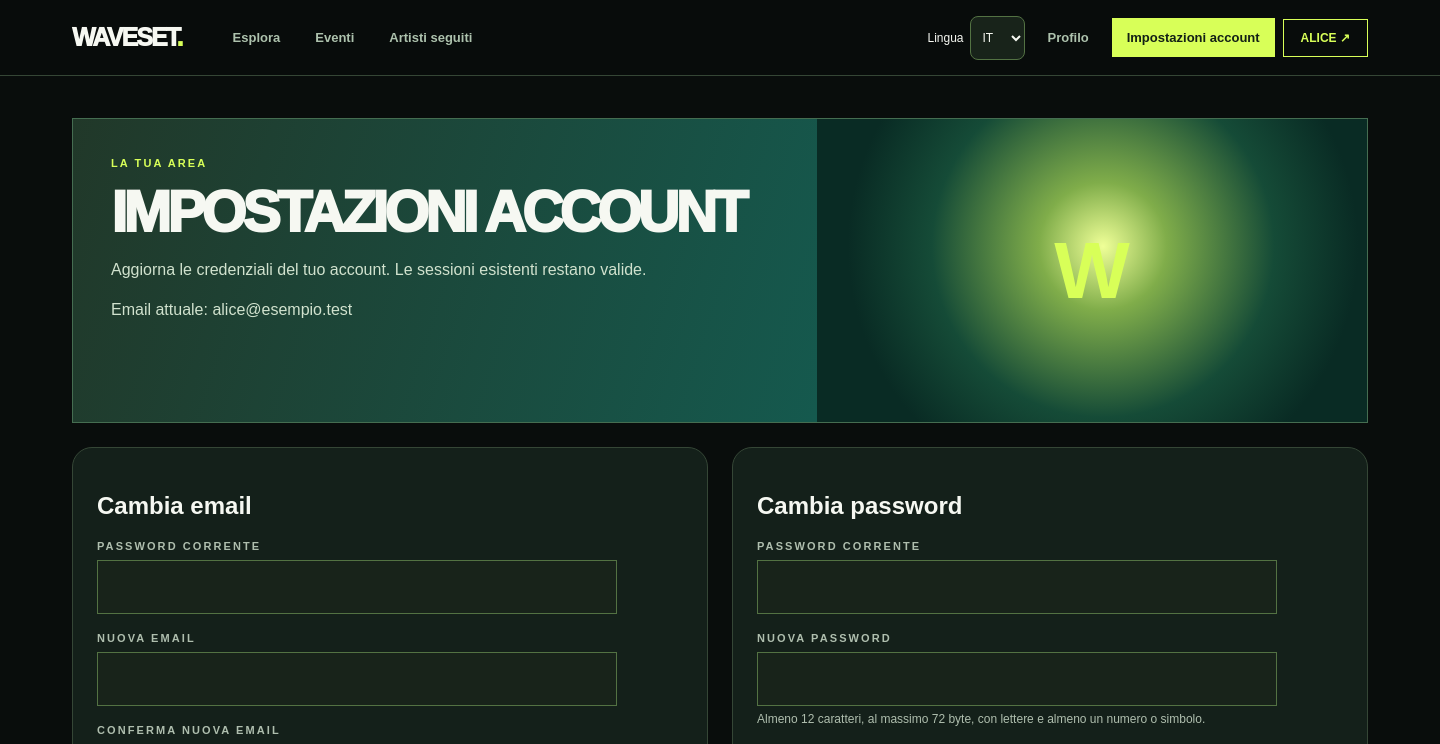
Test: validazione password: breve
Check: the heading "Impostazioni account" is shown, box [111, 184, 779, 242]
In the 2nd password field labelled "Password corrente": (1017, 587) [779, 561, 1255, 613], type "Password-attuale-123"
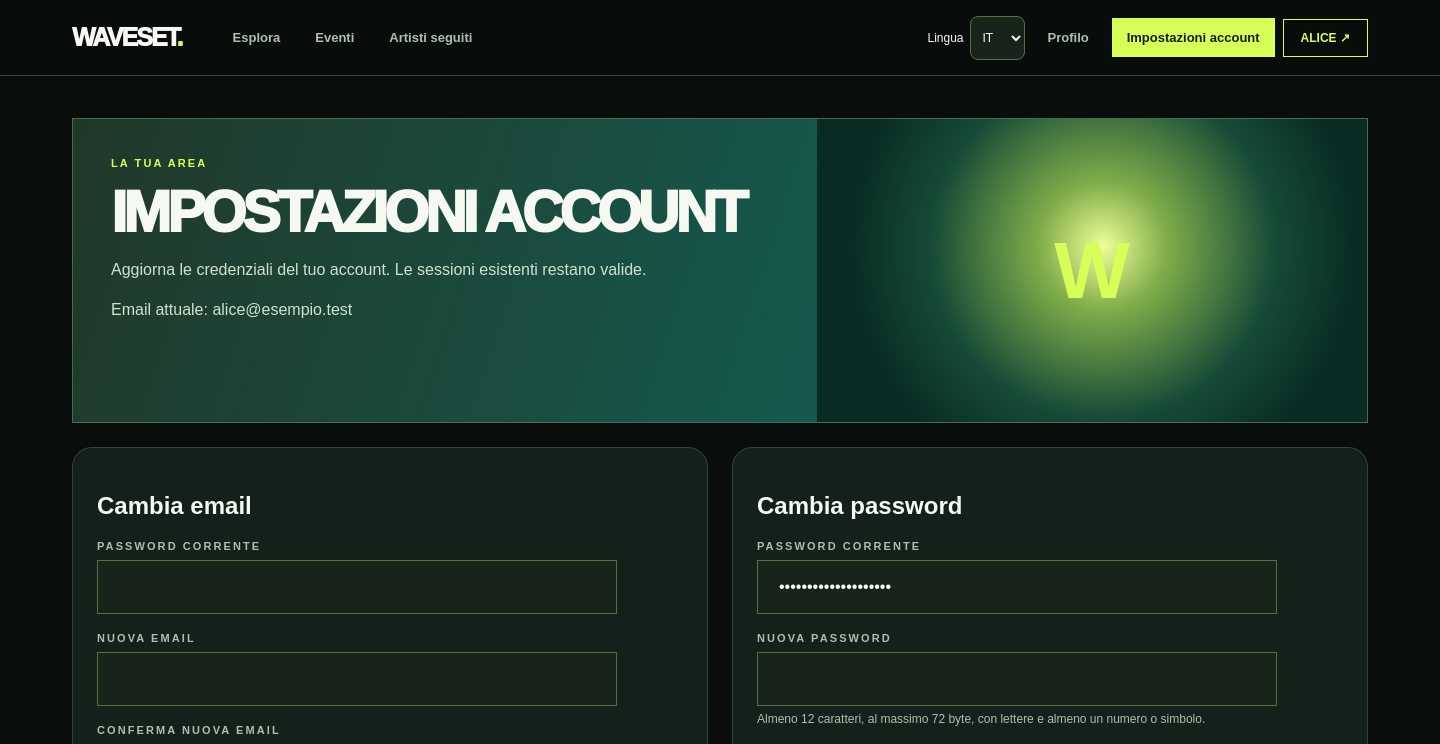
In the password field labelled "Nuova password": (1017, 679) [779, 653, 1255, 705], type "breve"
(page scrolled)
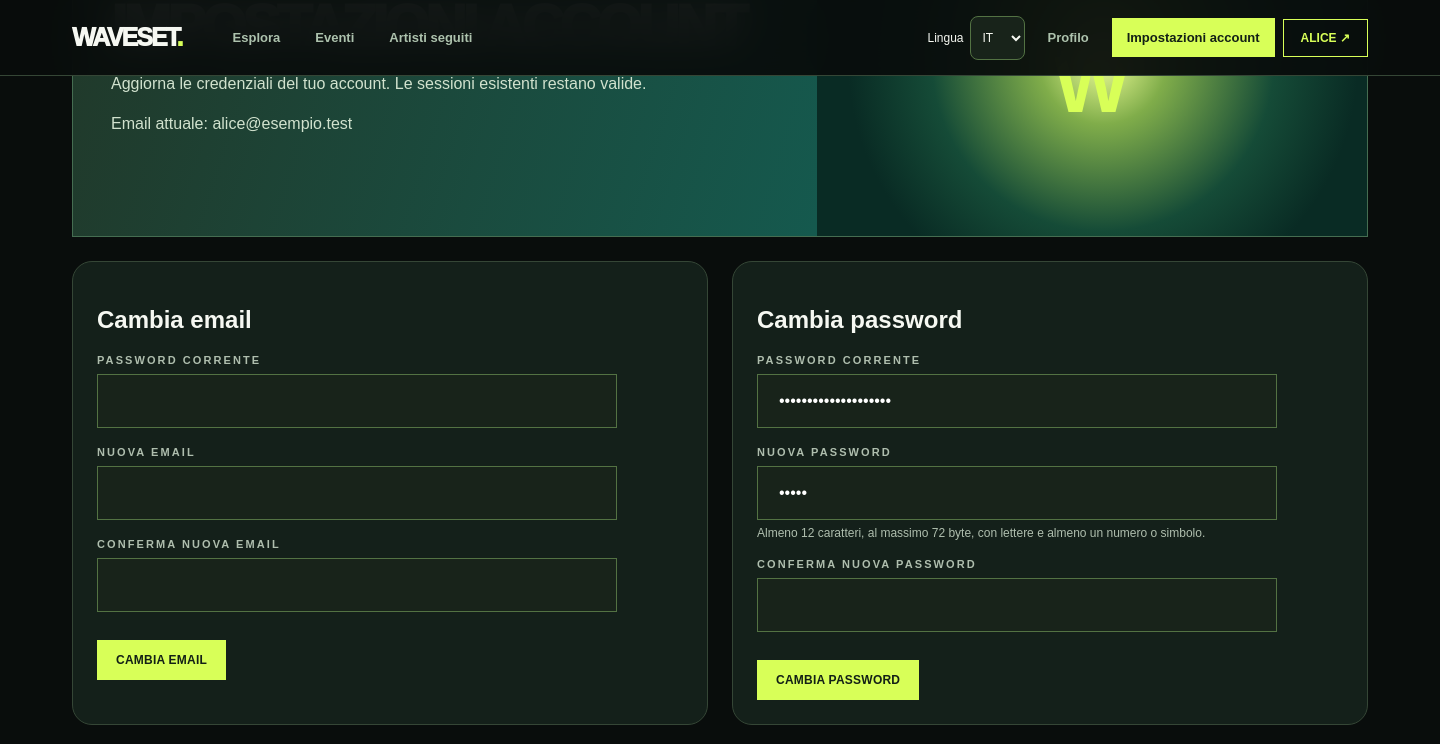
In the password field labelled "Conferma nuova password": (1017, 605) [779, 579, 1255, 631], type "breve"
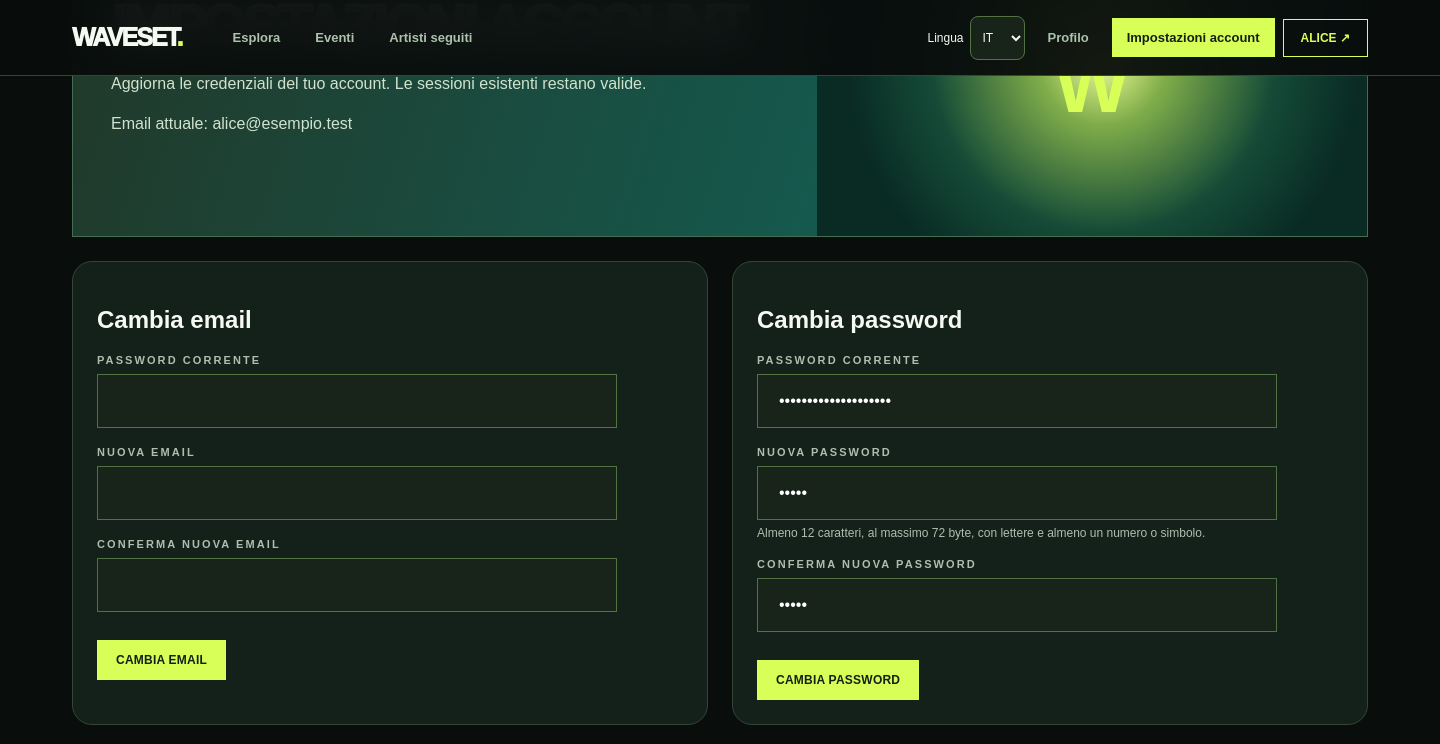
Click the button "Cambia password": (838, 680) [757, 660, 919, 700]
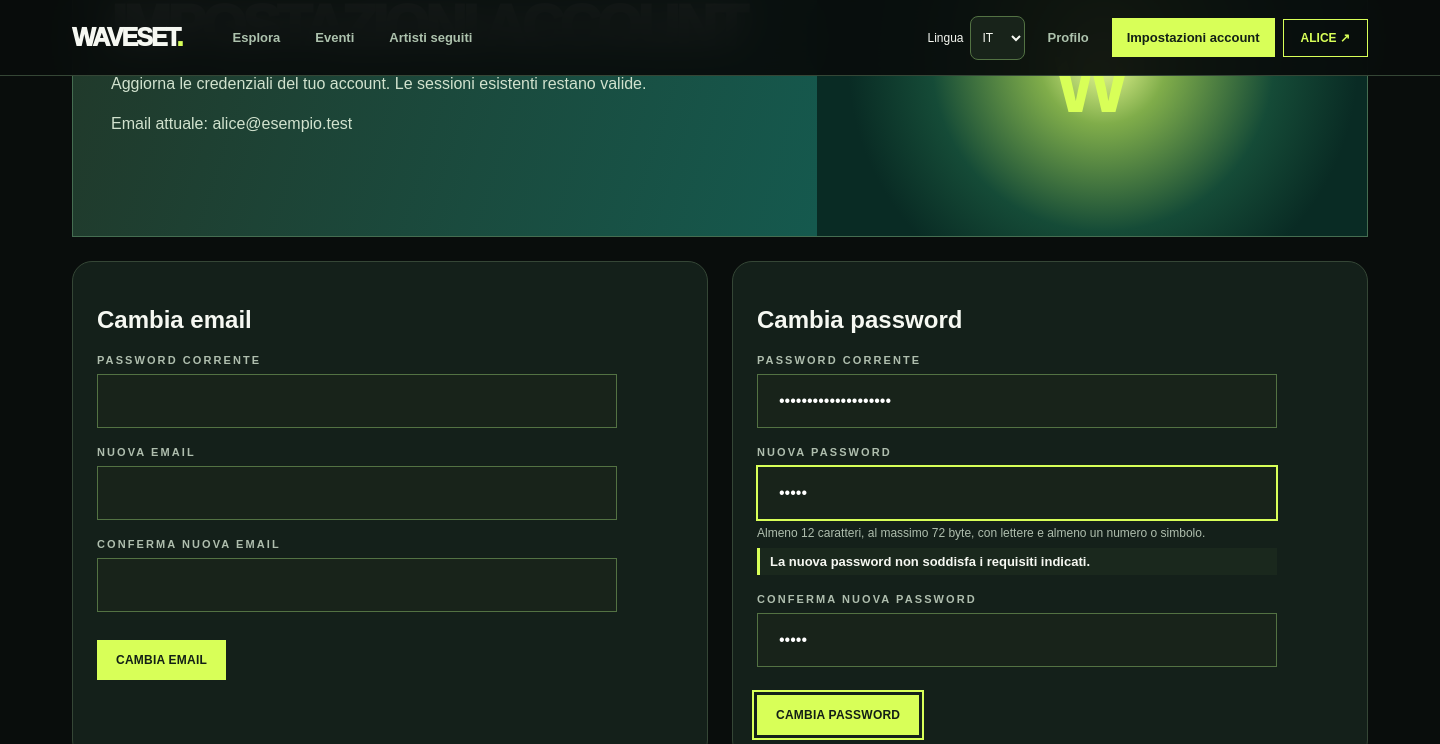
Check: the text "La nuova password non soddisfa i requisiti indicati." is shown, box [757, 548, 1277, 575]
